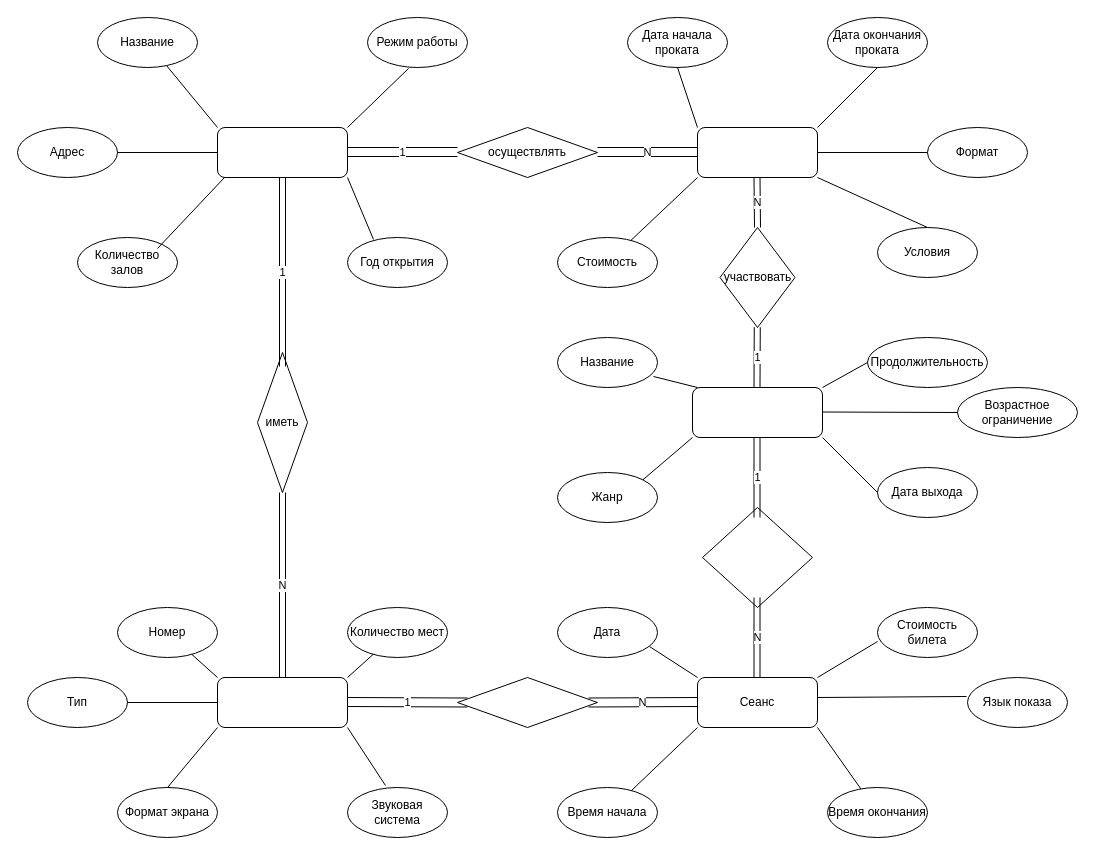
The diagram is 1095 pixels wide and 855 high, and some of its shapes have lost their labels. Each missing label, with the centre of its shape:
демонстрировать: [757,557]
Зал: [282,702]
Использовать: [527,702]
Кинотеатр: [282,152]
Прокат фильма: [757,152]
Фильм: [757,412]
